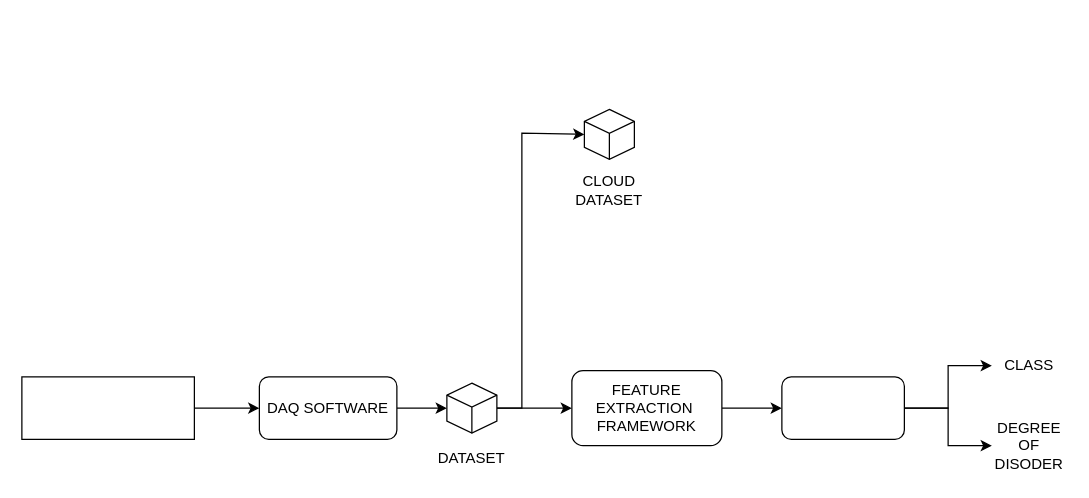
Some shapes in this 1089 by 498 pixel diagram are drawn without their labels. The centre of each missing label's shape, as x and y in pixels:
DAQ HARDWARE: [107,407]
MODEL FRAMEWORK: [842,407]
